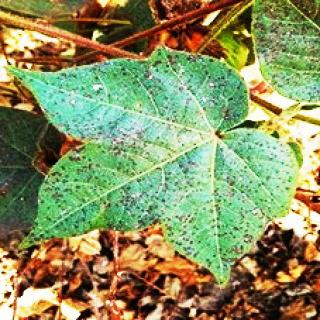leaf spot: (38, 56, 286, 280), (249, 0, 320, 108)
